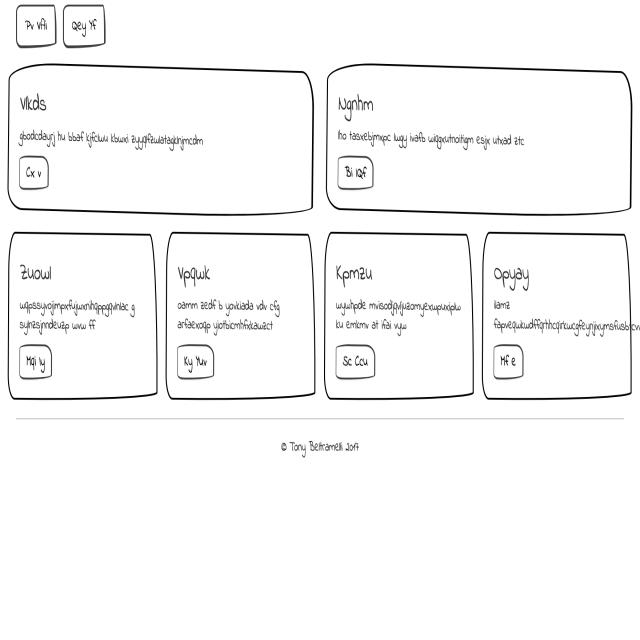Button: (332, 330, 380, 387), (174, 338, 223, 386), (15, 338, 59, 383), (486, 339, 522, 385), (12, 149, 50, 190), (336, 152, 373, 191)
Card: (7, 58, 313, 223), (327, 58, 632, 220), (476, 229, 640, 402), (322, 231, 472, 401), (5, 234, 157, 399), (165, 236, 315, 398)
Footer: (0, 407, 640, 640)
Heading 6: (328, 249, 381, 291), (332, 81, 381, 124), (174, 246, 216, 290), (488, 259, 538, 295), (18, 256, 55, 288), (20, 87, 54, 120)
Navigation Bar: (12, 2, 120, 54)
Paragraph: (487, 299, 640, 347), (17, 121, 217, 152), (334, 127, 530, 157), (169, 293, 287, 341), (333, 293, 462, 334), (17, 294, 143, 335)
